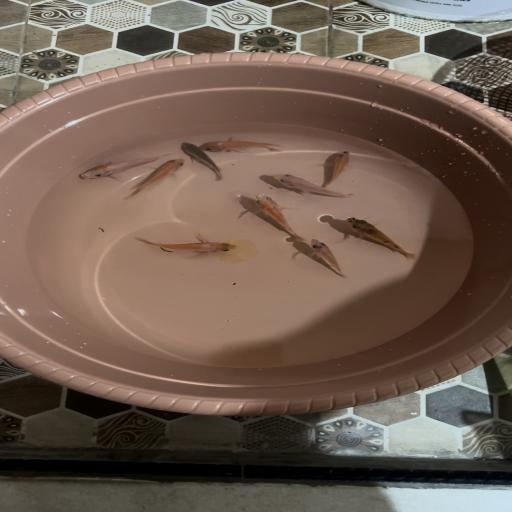nila: (340, 212, 423, 262), (133, 231, 244, 260), (268, 170, 360, 203), (124, 158, 186, 206), (73, 152, 162, 184), (246, 191, 300, 233), (303, 238, 356, 279), (174, 142, 226, 180), (204, 134, 288, 154), (322, 148, 355, 188)
